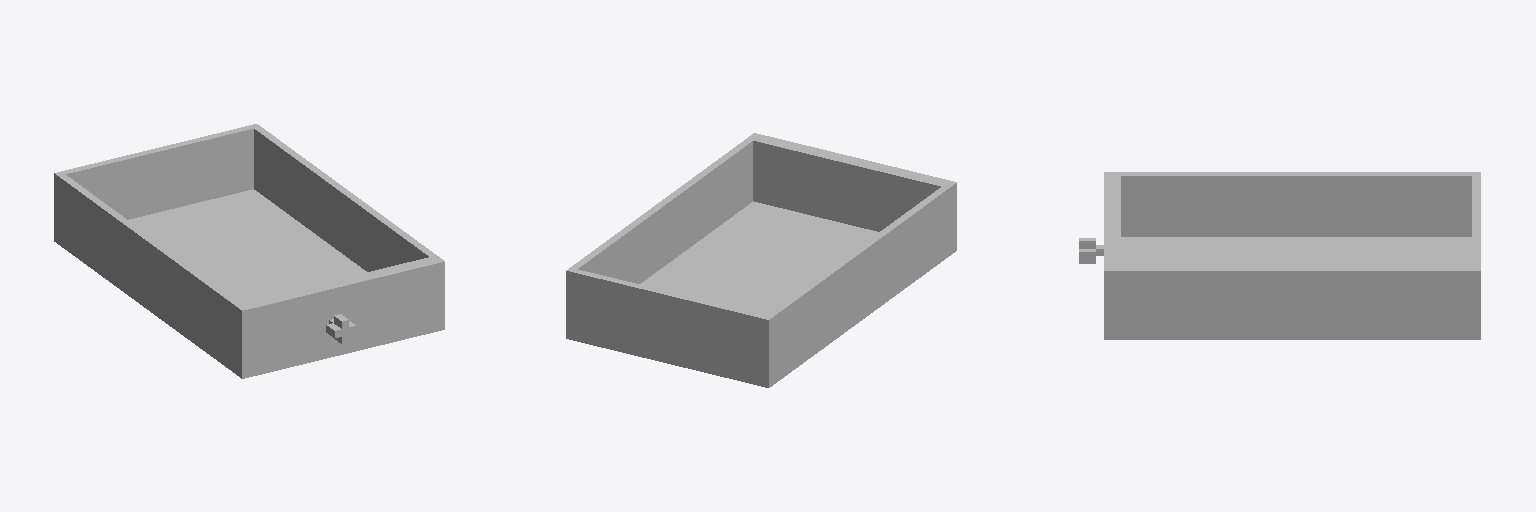
The model's file is bureau Prof-1.obj.
3 views of the same model, side by side, from view 1: azimuth 30°, elevation 25°; view 2: azimuth 150°, elevation 25°; view 3: azimuth 270°, elevation 25° (orthographic).
Parts seen in each view (by area): view 1: object 1; view 2: object 1; view 3: object 1.
Part boxes in pixels (x1,y1,x2,y2): object 1: (54, 124, 444, 378); object 1: (566, 133, 956, 387); object 1: (1079, 172, 1480, 339).
Bounding box in the file's own units: 2.8 × 0.9 × 4.8.